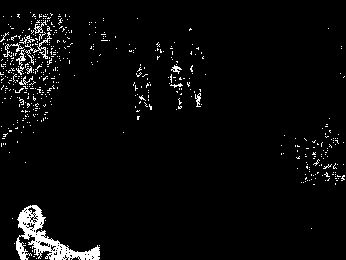person: (16, 203, 100, 260), (133, 63, 153, 122), (168, 59, 186, 110)
